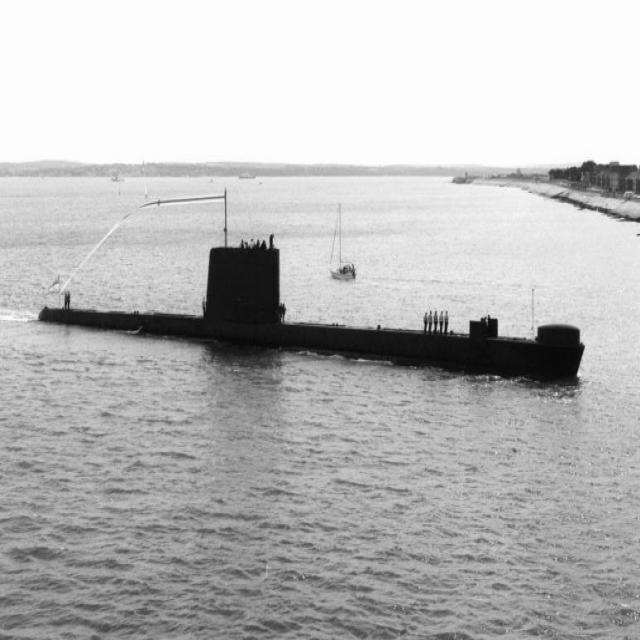submarine: (35, 189, 581, 380)
